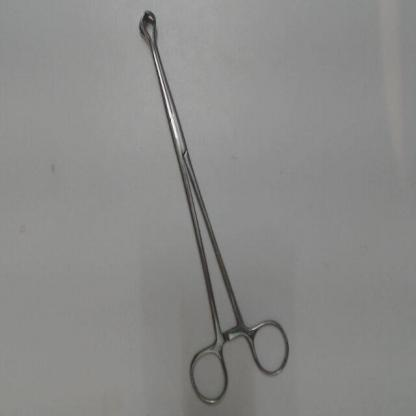8 Babcock Tissue Forceps: (132, 2, 297, 409)
